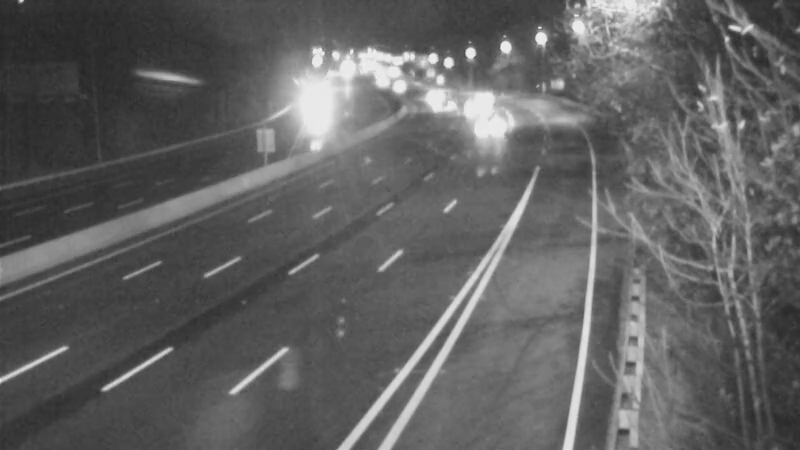vehicle: (376, 64, 426, 114), (409, 71, 459, 121), (459, 73, 509, 123), (421, 79, 471, 129), (448, 83, 498, 133), (464, 101, 514, 151), (288, 79, 338, 129)
